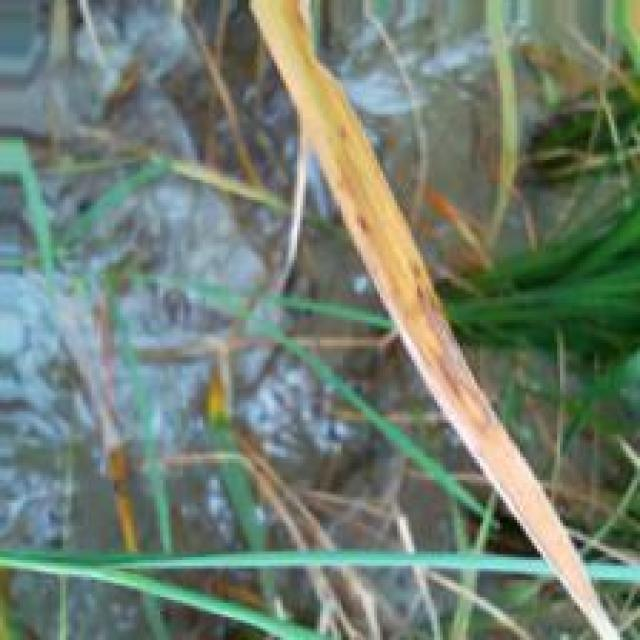Bacterial_Leaf_Blight: (251, 0, 575, 560)
